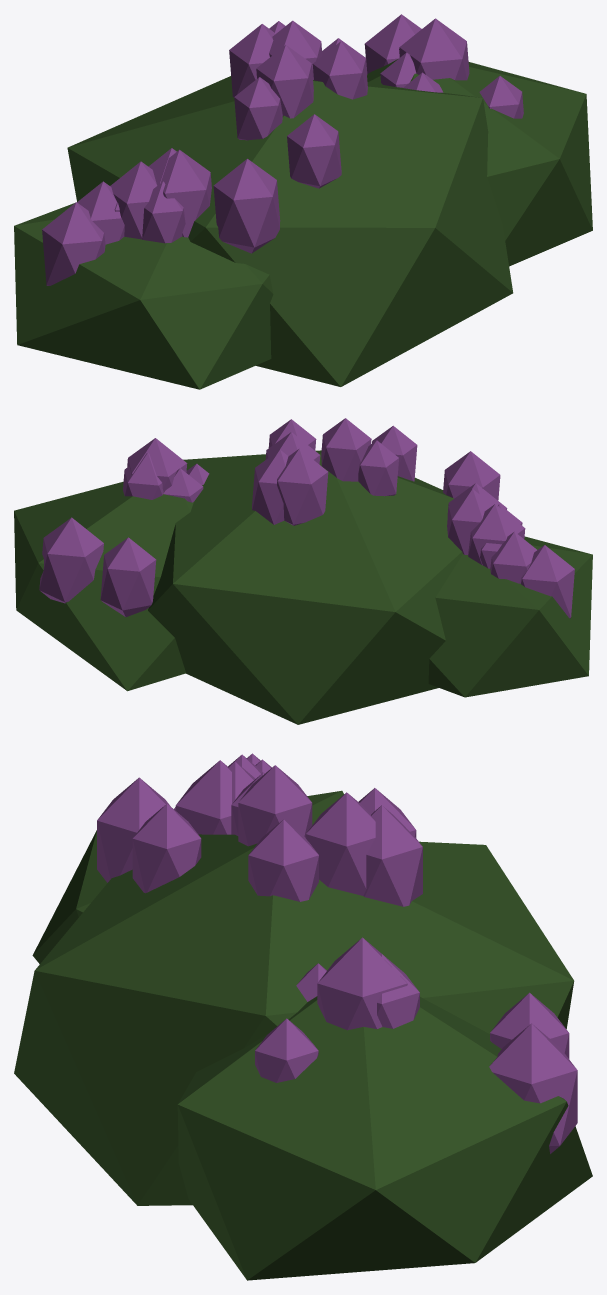
Rendered from heather.glb.
3 views of the same model, one above another, from view 1: azimuth 30°, elevation 25°; view 2: azimuth 150°, elevation 25°; view 3: azimuth 270°, elevation 25° (orthographic). The views are drawn at different scales.
Visible parts, largest first — view 1: heather; view 2: heather; view 3: heather.
Boxes of the visible parts, x1,y1,x2,y2 form: heather: [14, 14, 592, 389]; heather: [14, 418, 592, 724]; heather: [14, 753, 592, 1280].
Bounding box in the file's own units: 1.27 × 0.5302 × 0.7993.
